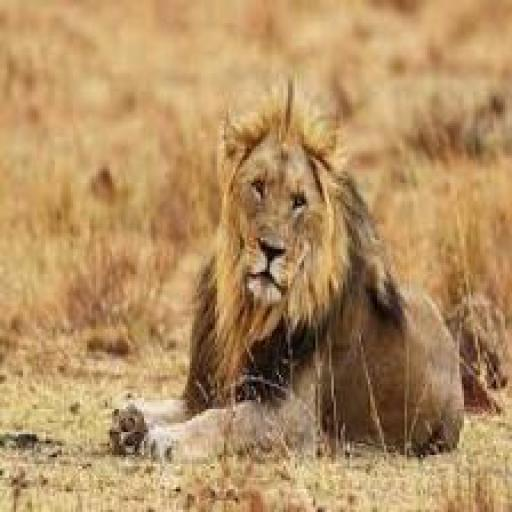lion: (215, 82, 458, 486)
